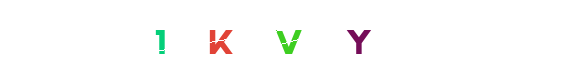1: (187, 0, 267, 80)
K: (201, 0, 281, 80)
V: (245, 0, 325, 80)
Y: (318, 0, 398, 80)
